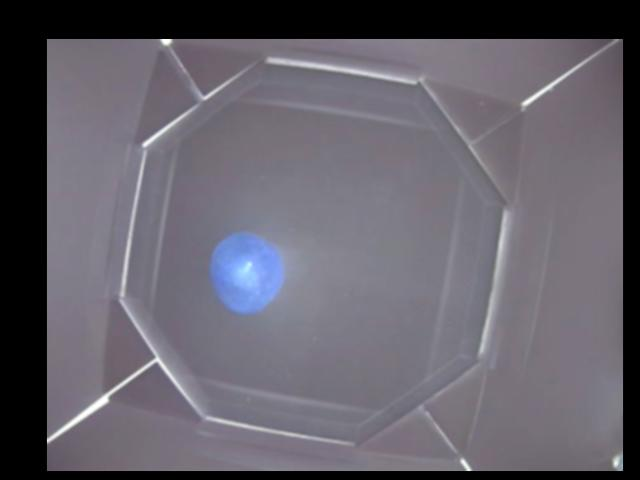Potato: (205, 234, 280, 313)
